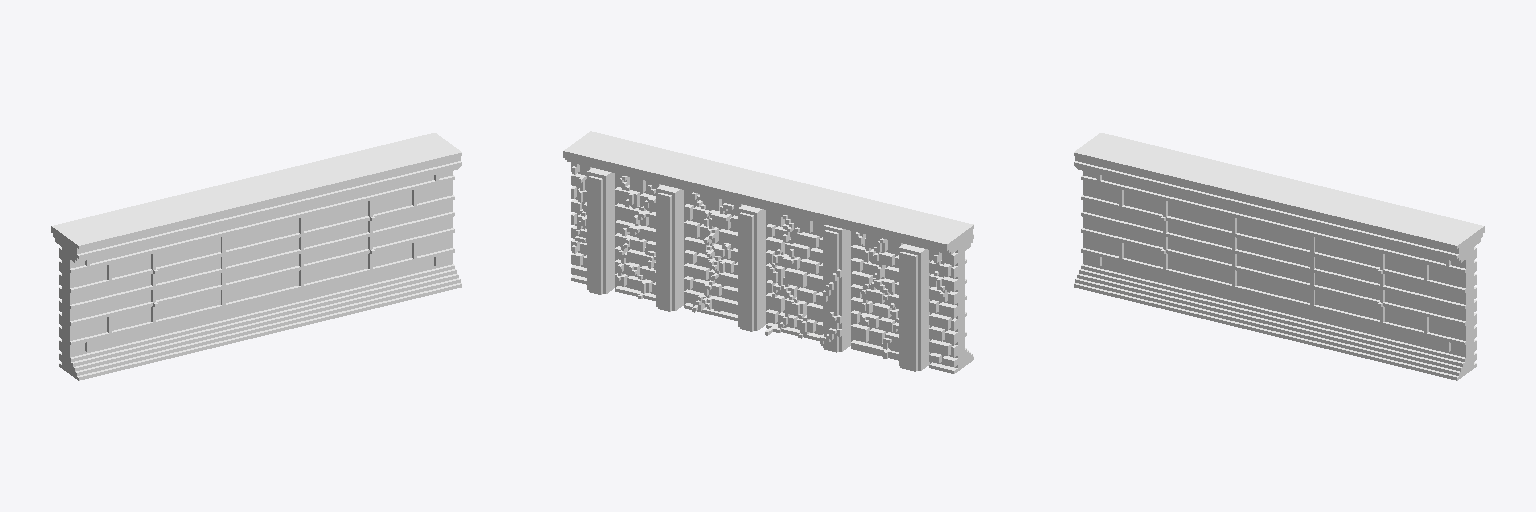
Rendered from CasleWall 1.obj.
The picture shows the model from 3 angles: view 1: azimuth 30°, elevation 25°; view 2: azimuth 150°, elevation 25°; view 3: azimuth 330°, elevation 25°; orthographic projection.
Bounding box in the file's own units: 122 × 41 × 16.